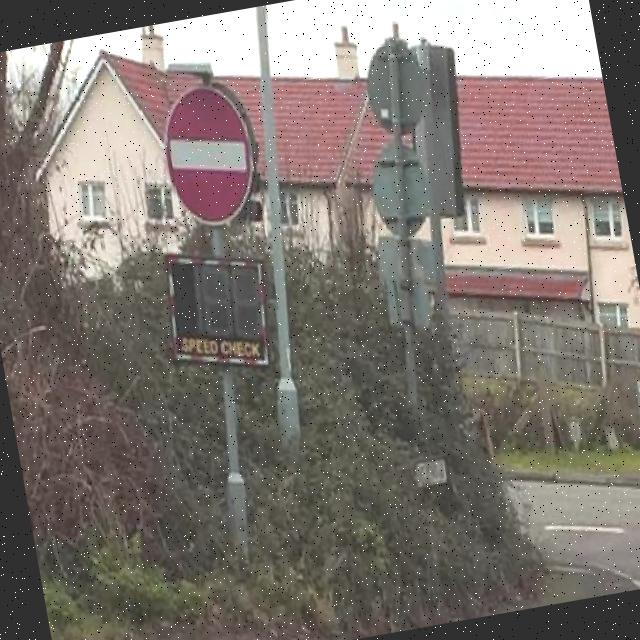Zakaz wjazdu: (152, 74, 264, 234)
